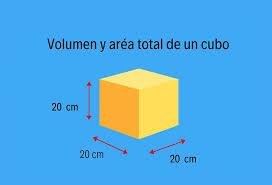cubos: (94, 67, 185, 141)
